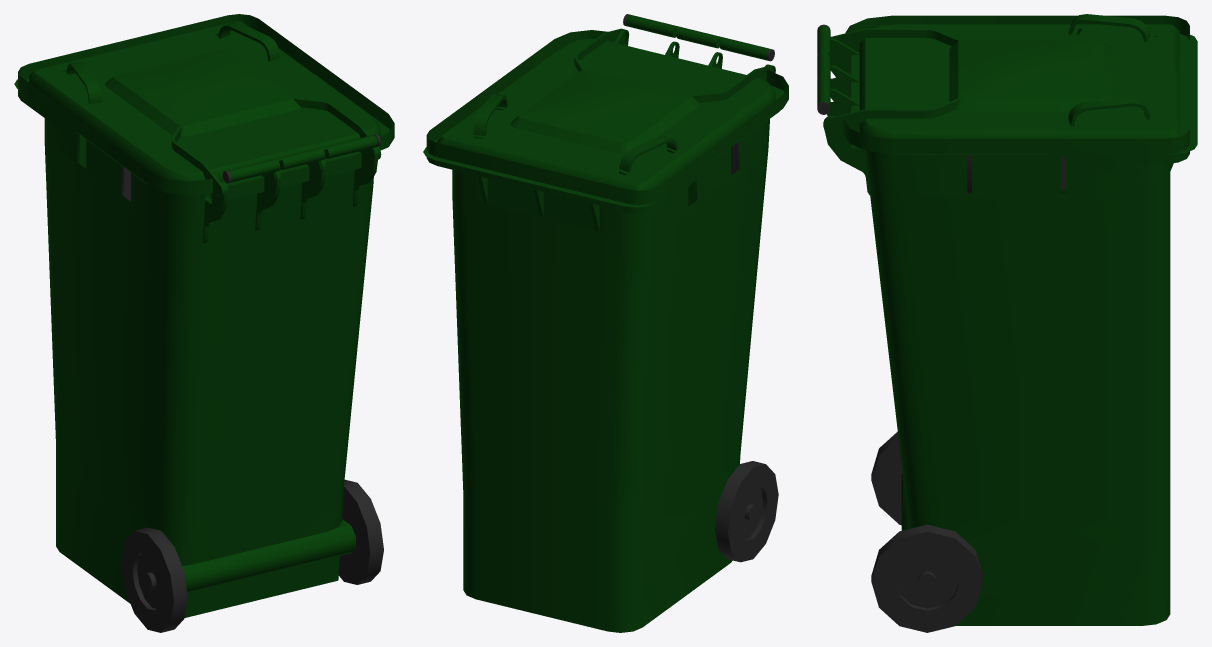
File: austriabingreen.fbx
The picture shows the model from 3 angles, left to right: view 1: azimuth 30°, elevation 25°; view 2: azimuth 150°, elevation 25°; view 3: azimuth 270°, elevation 25°; orthographic projection. The views are drawn at different scales.
Parts seen in each view (by area): view 1: group_0.003; view 2: group_0.003; view 3: group_0.003.
Part boxes in pixels (left/top/right/bottom): group_0.003: left=14, top=14, right=394, bottom=632; group_0.003: left=423, top=14, right=788, bottom=632; group_0.003: left=817, top=14, right=1197, bottom=632.
Size of the model in its own units: 52 by 102 by 68.09.
